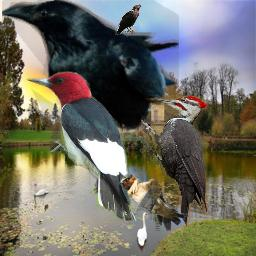Crow: (2, 0, 179, 141), (115, 4, 142, 35)
Swallow: (119, 173, 186, 232)
Woodpecker: (25, 71, 140, 221), (141, 96, 209, 229)
